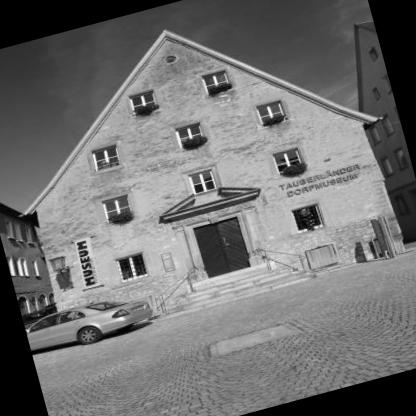car: (23, 284, 160, 364)
